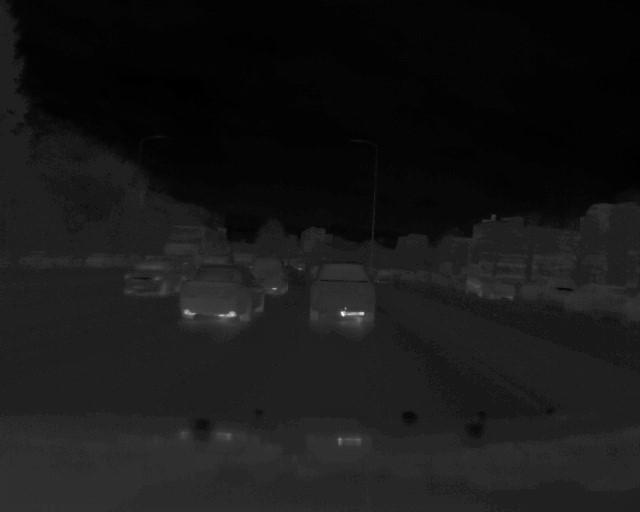car: (181, 264, 266, 326), (304, 262, 376, 333), (121, 253, 178, 304)
